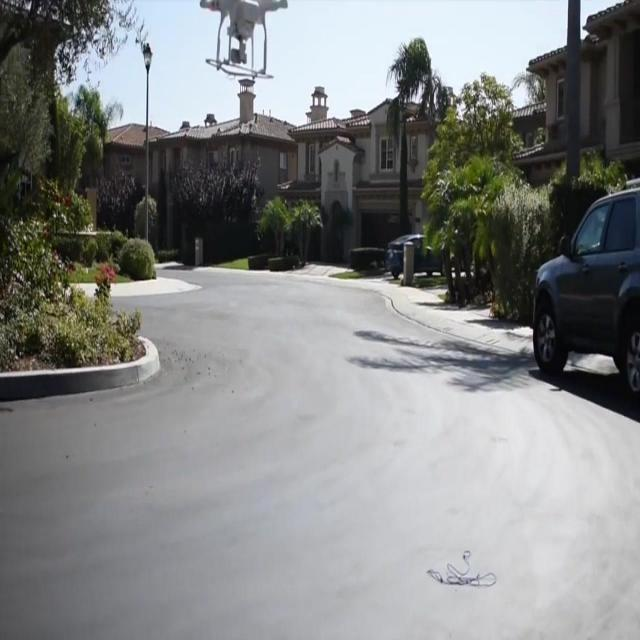UAV: (200, 0, 288, 81)
